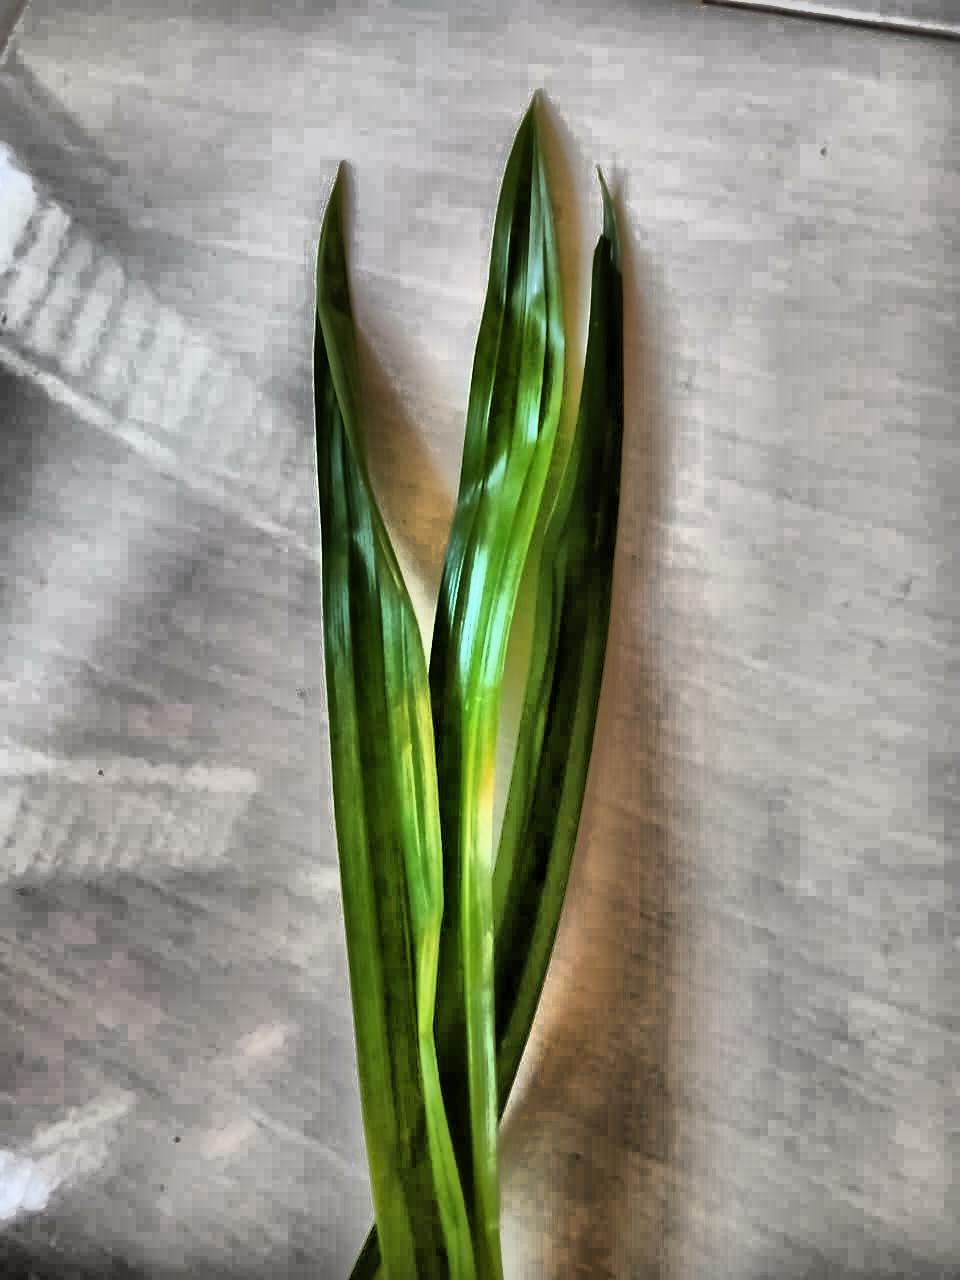daun pandan: (315, 100, 625, 1279)
